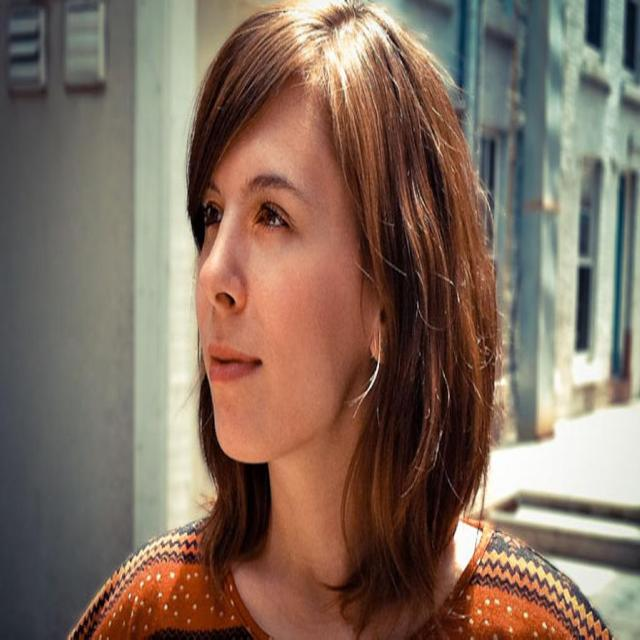Face: (190, 86, 376, 475)
